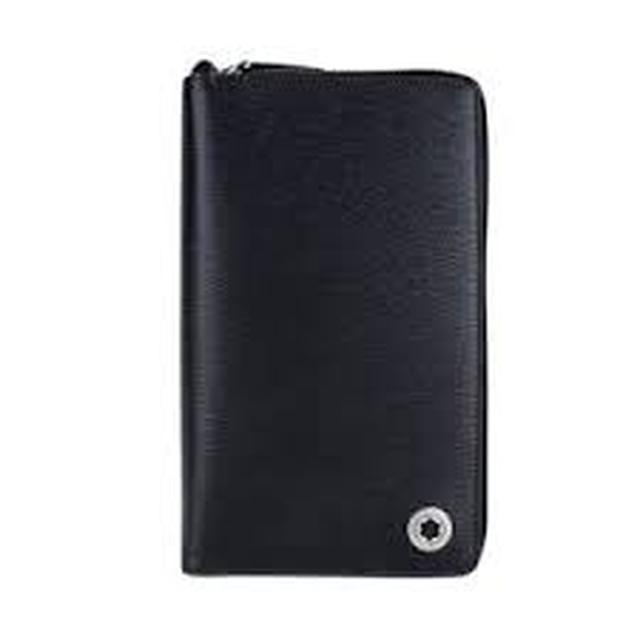wallet: (127, 54, 530, 626)
